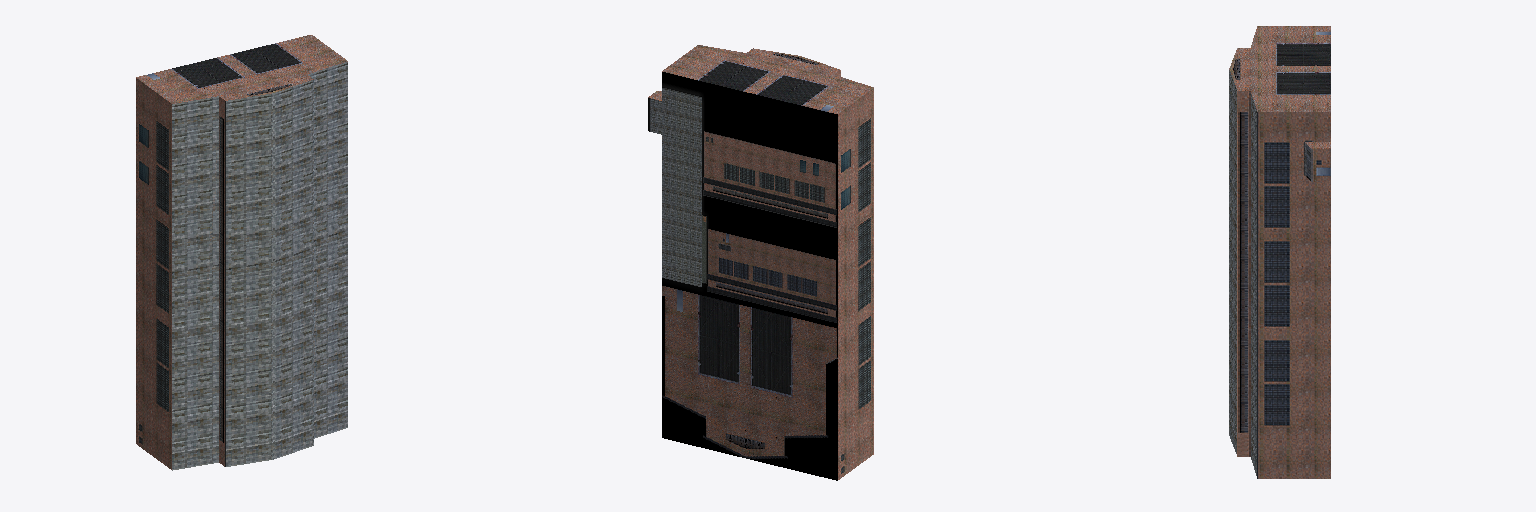
3 renders of one model, left to right at view 1: azimuth 30°, elevation 25°; view 2: azimuth 150°, elevation 25°; view 3: azimuth 270°, elevation 25°, orthographic.
Parts seen in each view (by area): view 1: MDL_polym1; view 2: MDL_polym1; view 3: MDL_polym1.
Boxes of the visible parts, x1=… form: MDL_polym1: x1=136, y1=35, x2=347, y2=470; MDL_polym1: x1=648, y1=45, x2=873, y2=480; MDL_polym1: x1=1229, y1=26, x2=1330, y2=478.
Bounding box in the file's own units: 40.24 × 74.16 × 18.59.
1 materials, 1 textured.